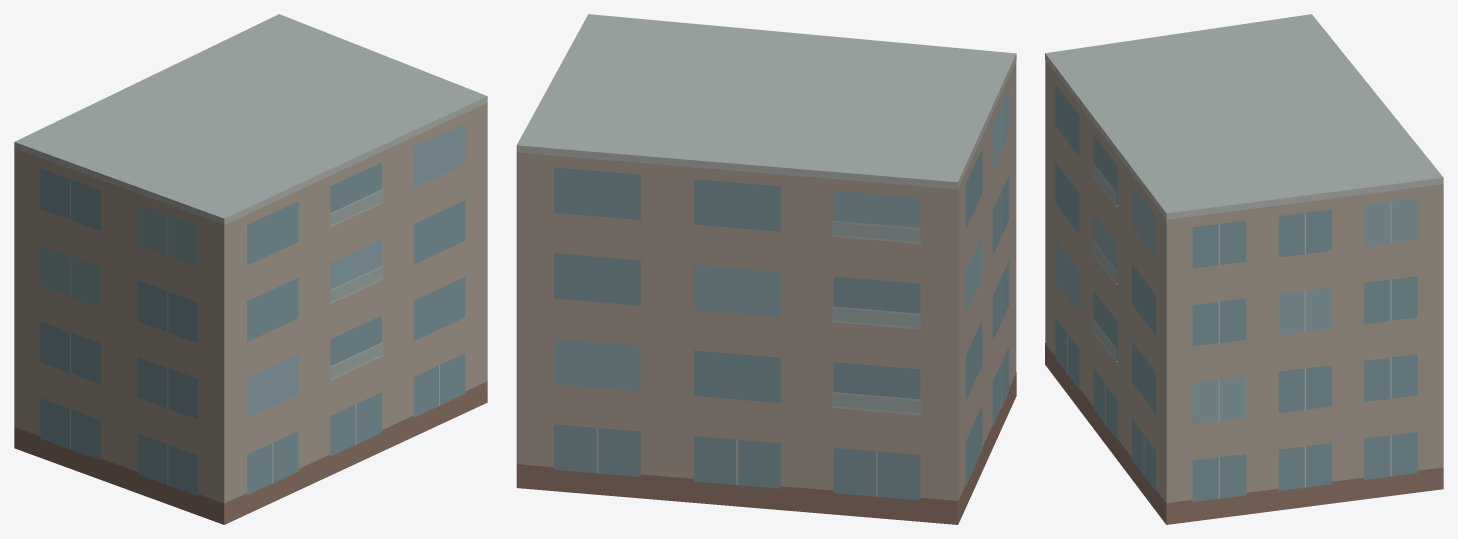
File: survey-upis-32620759.glb
3 views of the same model, side by side, from view 1: azimuth 30°, elevation 25°; view 2: azimuth 150°, elevation 25°; view 3: azimuth 270°, elevation 25° (orthographic). The views are drawn at different scales.
Parts seen in each view (by area): view 1: survey-upis-32620759.tmp; view 2: survey-upis-32620759.tmp; view 3: survey-upis-32620759.tmp.
Part boxes in pixels (x1=…): survey-upis-32620759.tmp: x1=14, y1=14, x2=487, y2=524; survey-upis-32620759.tmp: x1=516, y1=14, x2=1016, y2=524; survey-upis-32620759.tmp: x1=1045, y1=14, x2=1443, y2=524.
Bounding box in the file's own units: 16.08 × 11.7 × 13.58.
